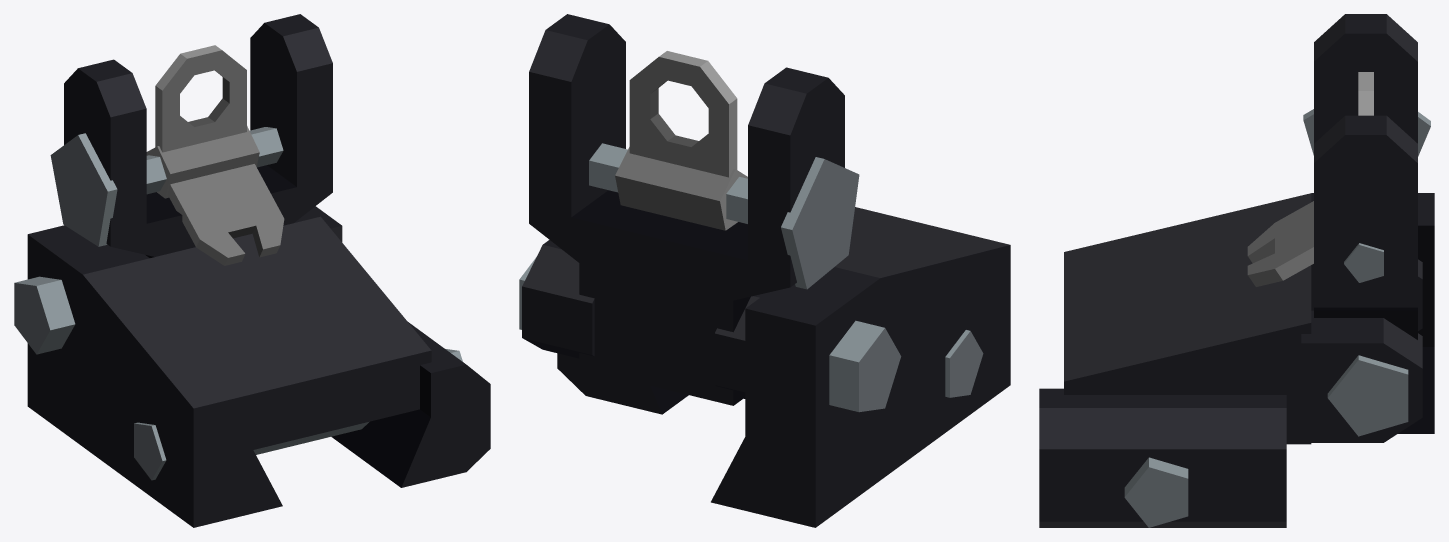
Rendered from MW1_IronSight_Rear_Rail_01.fbx.
3 views of the same model, side by side, from view 1: azimuth 30°, elevation 25°; view 2: azimuth 150°, elevation 25°; view 3: azimuth 270°, elevation 25° (orthographic). The views are drawn at different scales.
Visible parts, largest first — view 1: IronSight_Rear_Rail_01; view 2: IronSight_Rear_Rail_01; view 3: IronSight_Rear_Rail_01.
Boxes of the visible parts, x1=… form: IronSight_Rear_Rail_01: x1=14, y1=14, x2=490, y2=527; IronSight_Rear_Rail_01: x1=519, y1=14, x2=1010, y2=527; IronSight_Rear_Rail_01: x1=1039, y1=14, x2=1434, y2=527.
Bounding box in the file's own units: 2.72 × 2.74 × 2.53.
